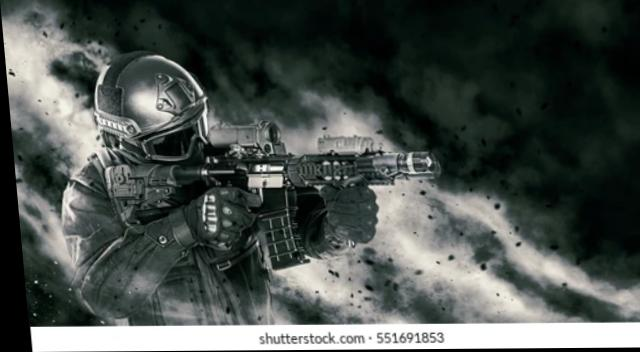other: (64, 41, 284, 313)
